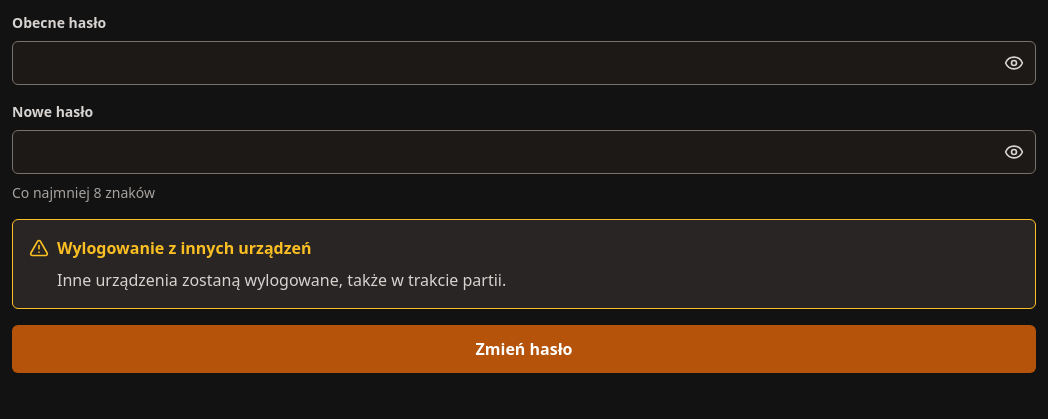
it: ChangePasswordForm › blames the current password, clears and hides it, keeps the new one and focuses it
Click the 1st button named "Pokaż hasło". click: (1014, 63)
box: [992,41,1036,85]
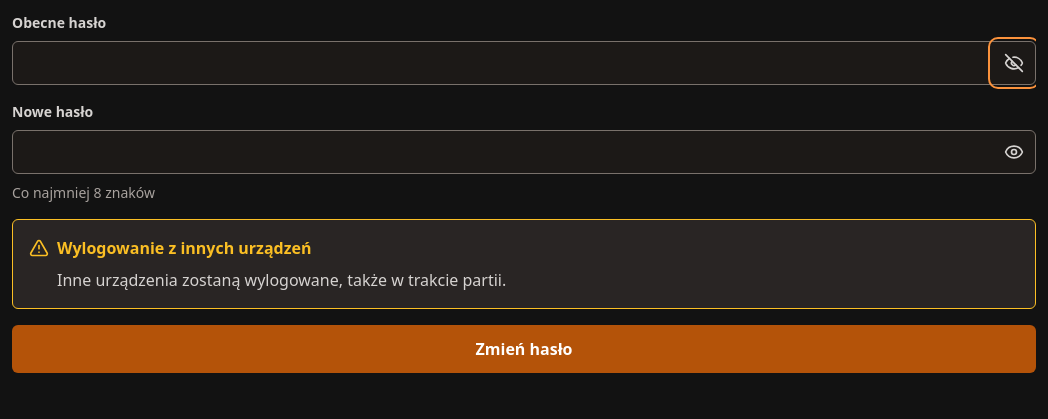
Type "wrong-one" into the field labelled "Obecne hasło". click: (524, 63)
box: [12,41,1036,85]
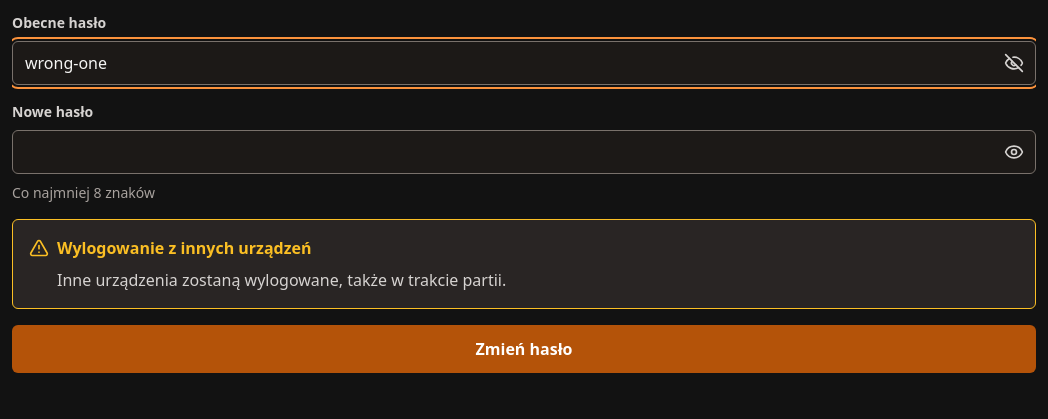
Type "brand-new-pass1" into the password field labelled "Nowe hasło". click: (524, 152)
box: [12,130,1036,174]
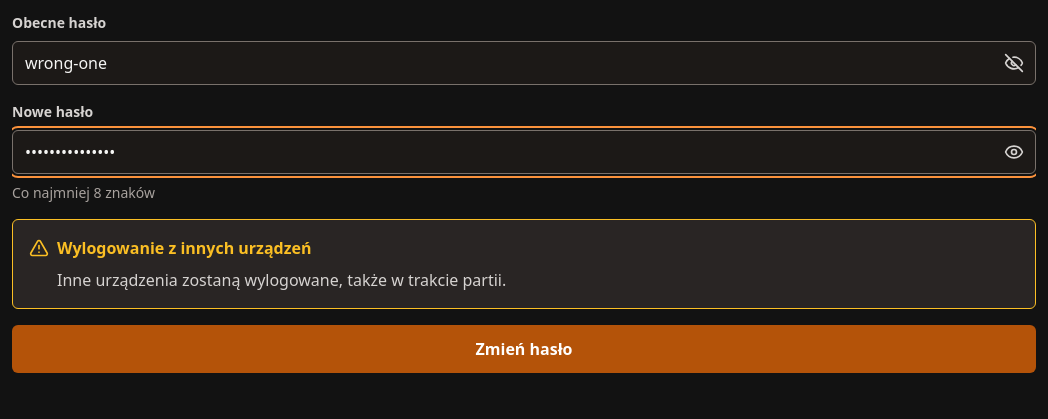
Click the button "Zmień hasło". click: (524, 349)
box: [12,325,1036,373]
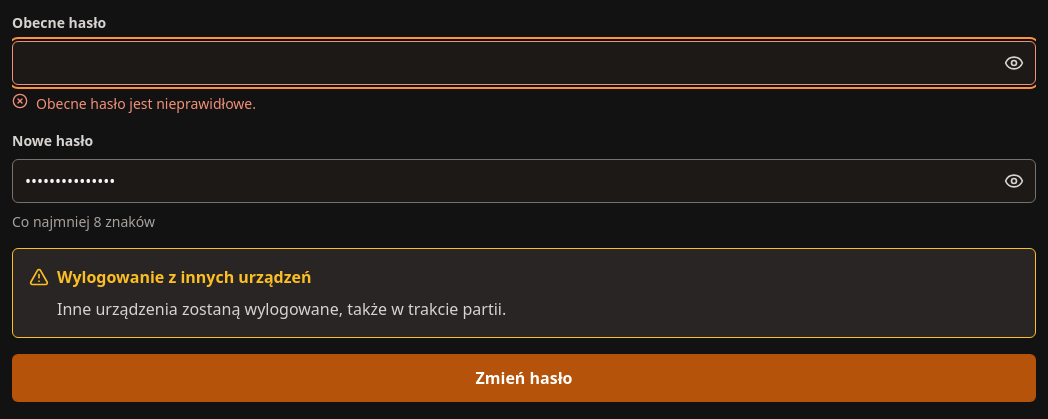
Expected: the text "Obecne hasło jest nieprawidłowe." is shown, [36,93,256,114]
Expected: the password field labelled "Obecne hasło" is empty, [12,41,1036,85]
